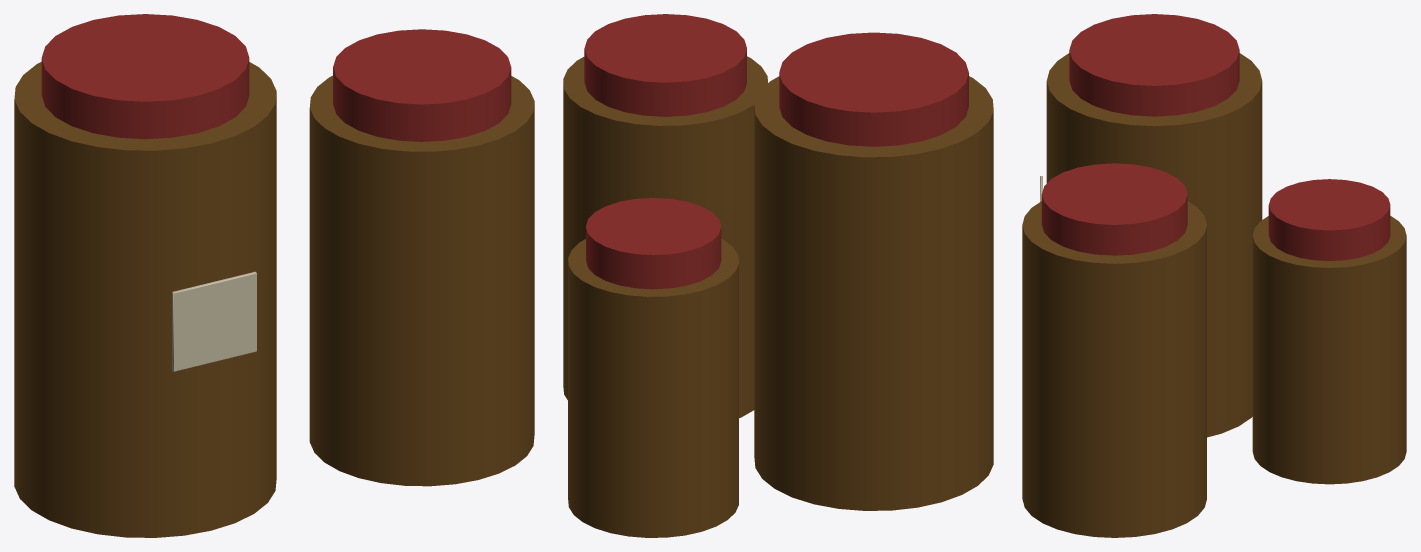
Rendered from HuBinhNgamRuou.glb.
The picture shows the model from 3 angles, left to right: view 1: azimuth 30°, elevation 25°; view 2: azimuth 150°, elevation 25°; view 3: azimuth 270°, elevation 25°; orthographic projection. The views are drawn at different scales.
Parts seen in each view (by area): view 1: HuBinhNgamRuou; view 2: HuBinhNgamRuou; view 3: HuBinhNgamRuou.
Part boxes in pixels (bbox=[...]): HuBinhNgamRuou: bbox=[14, 14, 534, 537]; HuBinhNgamRuou: bbox=[563, 14, 993, 537]; HuBinhNgamRuou: bbox=[1022, 14, 1406, 537].
Bounding box in the file's own units: 0.5514 × 0.4825 × 0.4827.
